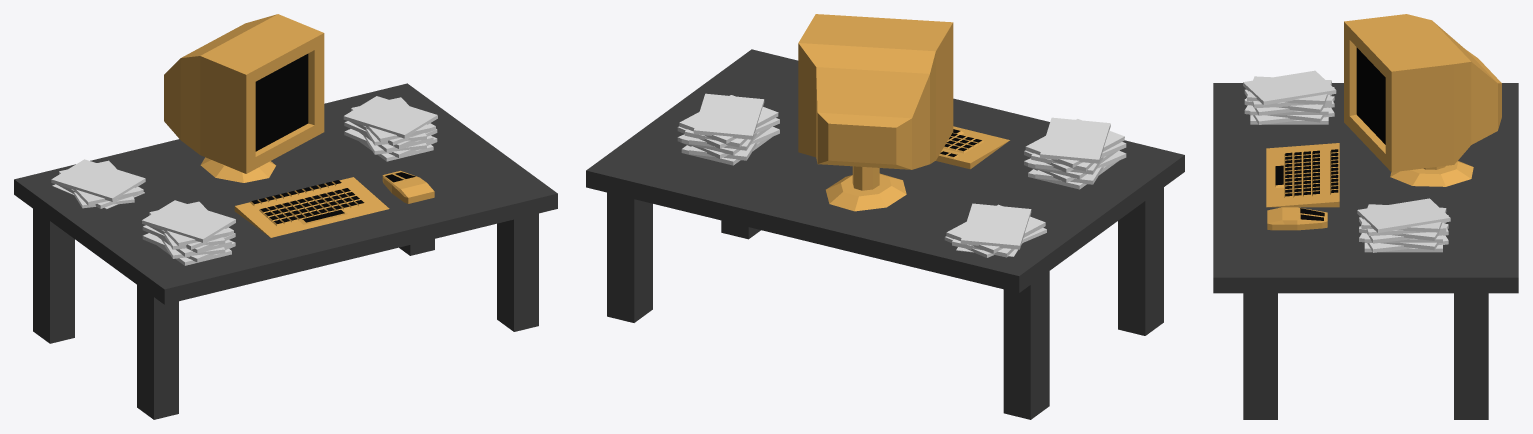
The model's file is Desk.glb.
3 views of the same model, side by side, from view 1: azimuth 30°, elevation 25°; view 2: azimuth 150°, elevation 25°; view 3: azimuth 270°, elevation 25° (orthographic). The views are drawn at different scales.
Visible parts, largest first — view 1: Desk; view 2: Desk; view 3: Desk.
Boxes of the visible parts, left/top/right/bottom form: Desk: left=14, top=14, right=557, bottom=419; Desk: left=586, top=14, right=1184, bottom=419; Desk: left=1213, top=14, right=1518, bottom=419.
Size of the model in its own units: 0.858 by 0.5716 by 0.5683.
